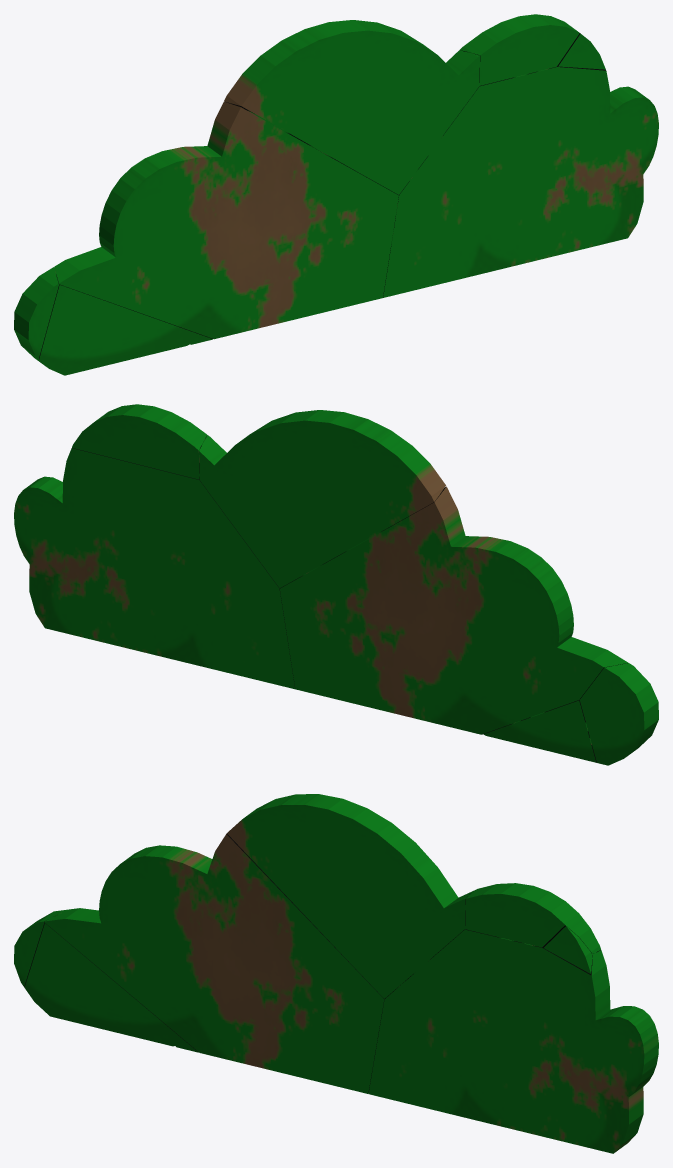
Rendered from Arbusto2.fbx.
3 views of the same model, one above another, from view 1: azimuth 30°, elevation 25°; view 2: azimuth 150°, elevation 25°; view 3: azimuth 330°, elevation 25° (orthographic).
Visible parts, largest first — view 1: arbusto 2_cell.005, arbusto 2_cell.004, arbusto 2_cell.002, arbusto 2_cell.001, arbusto 2_cell, arbusto 2_cell.006, arbusto 2_cell.003; view 2: arbusto 2_cell.005, arbusto 2_cell.004, arbusto 2_cell.002, arbusto 2_cell, arbusto 2_cell.006, arbusto 2_cell.001; view 3: arbusto 2_cell.005, arbusto 2_cell.004, arbusto 2_cell.002, arbusto 2_cell.001, arbusto 2_cell, arbusto 2_cell.006, arbusto 2_cell.003.
Part boxes in pixels (x1,y1,x2,y2): arbusto 2_cell.005: (54, 101, 398, 339); arbusto 2_cell.004: (383, 66, 658, 297); arbusto 2_cell.002: (224, 20, 479, 194); arbusto 2_cell.001: (39, 285, 212, 375); arbusto 2_cell: (460, 14, 580, 85); arbusto 2_cell.006: (14, 267, 59, 364); arbusto 2_cell.003: (558, 33, 605, 69); arbusto 2_cell.005: (280, 486, 628, 734); arbusto 2_cell.004: (14, 448, 295, 689); arbusto 2_cell.002: (199, 410, 445, 588); arbusto 2_cell: (72, 404, 207, 479); arbusto 2_cell.006: (580, 663, 658, 765); arbusto 2_cell.001: (482, 699, 645, 762); arbusto 2_cell.005: (44, 833, 385, 1093); arbusto 2_cell.004: (368, 929, 658, 1153); arbusto 2_cell.002: (227, 794, 472, 998); arbusto 2_cell.001: (24, 923, 198, 1052); arbusto 2_cell: (465, 883, 600, 953); arbusto 2_cell.006: (14, 909, 67, 987); arbusto 2_cell.003: (544, 926, 592, 973).
Bounding box in the file's own units: 440 × 183 × 17.73.
